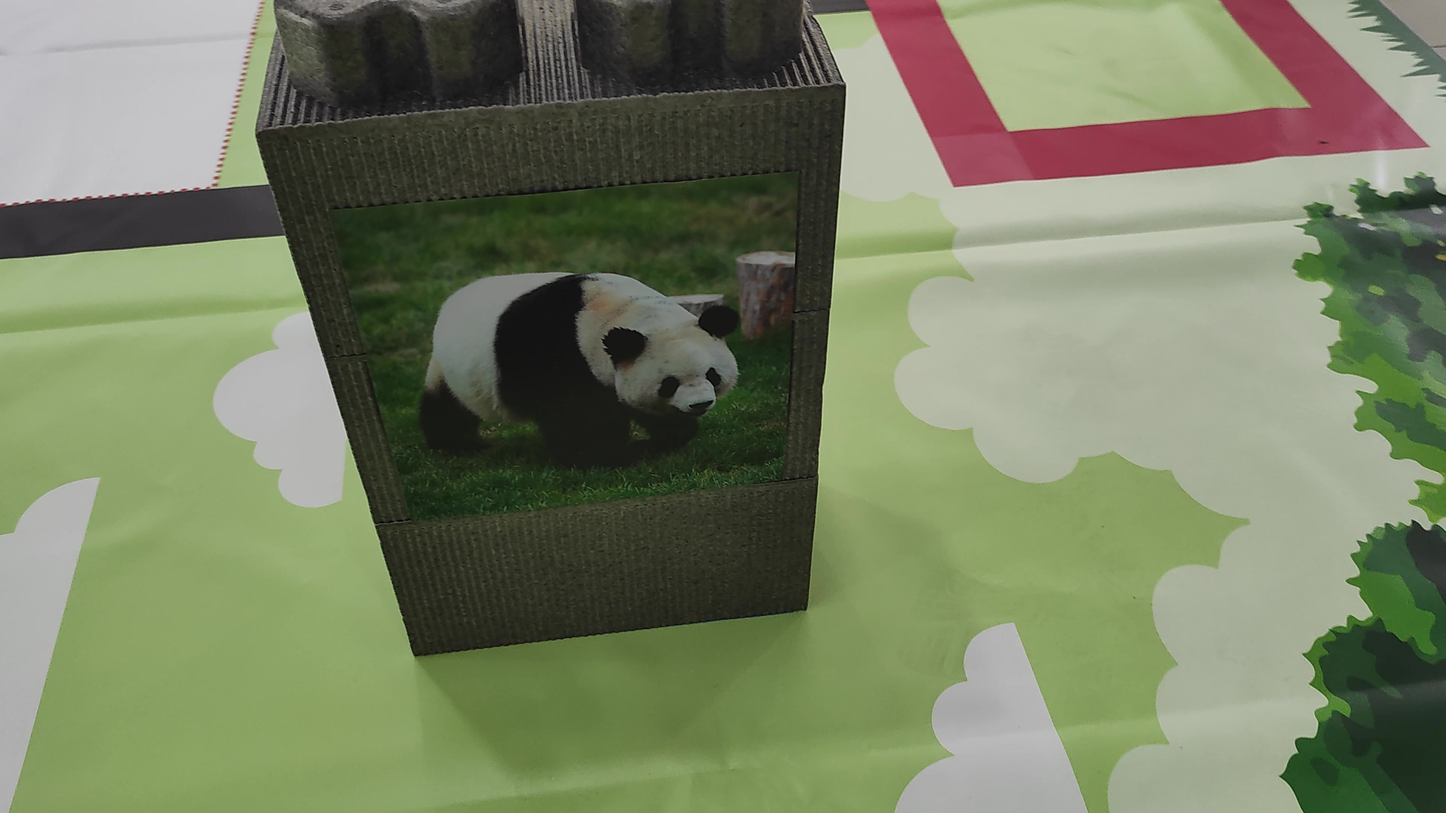panda: (399, 216, 763, 489)
